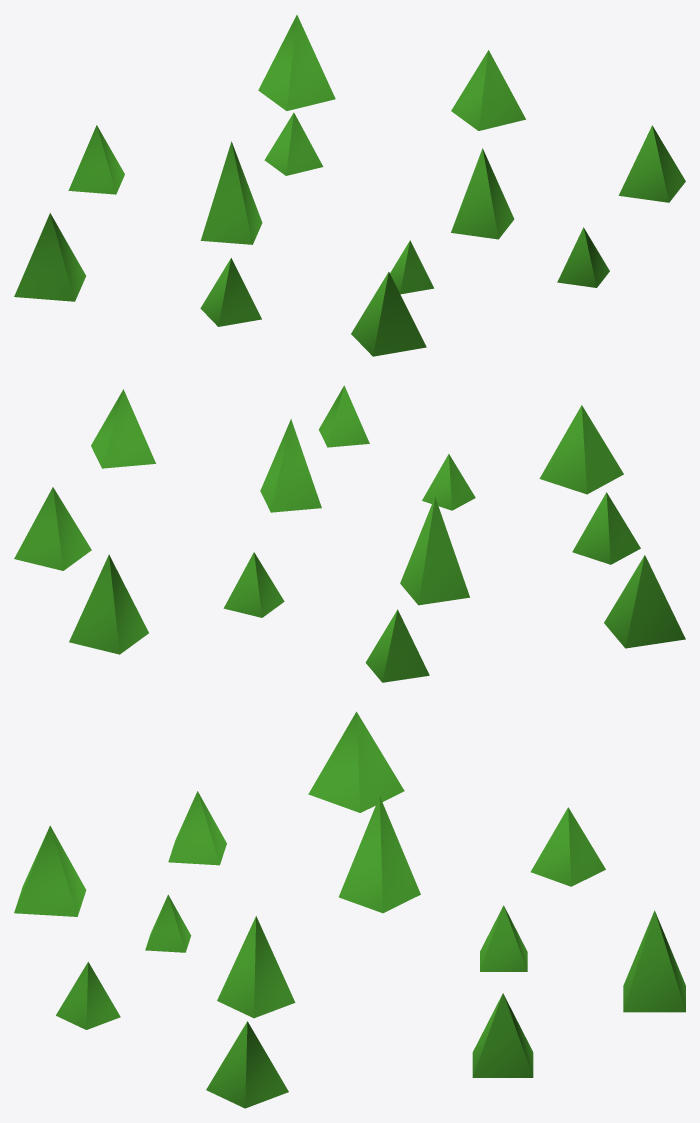
Rendered from grass_detail.glb.
The picture shows the model from 3 angles, top to bottom: view 1: azimuth 30°, elevation 25°; view 2: azimuth 150°, elevation 25°; view 3: azimuth 270°, elevation 25°; orthographic projection. The views are drawn at different scales.
Parts seen in each view (by area): view 1: GrassDetail; view 2: GrassDetail; view 3: GrassDetail.
Boxes of the visible parts, <box> form: GrassDetail: <box>14,15,685,356</box>; GrassDetail: <box>14,385,685,682</box>; GrassDetail: <box>14,711,685,1108</box>.
Bounding box in the file's own units: 0.9958 × 0.1423 × 0.8433.
